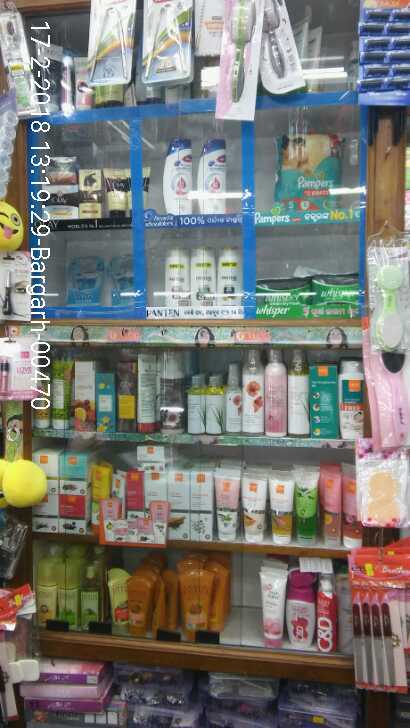venus: (64, 251, 100, 299), (106, 254, 136, 307)
